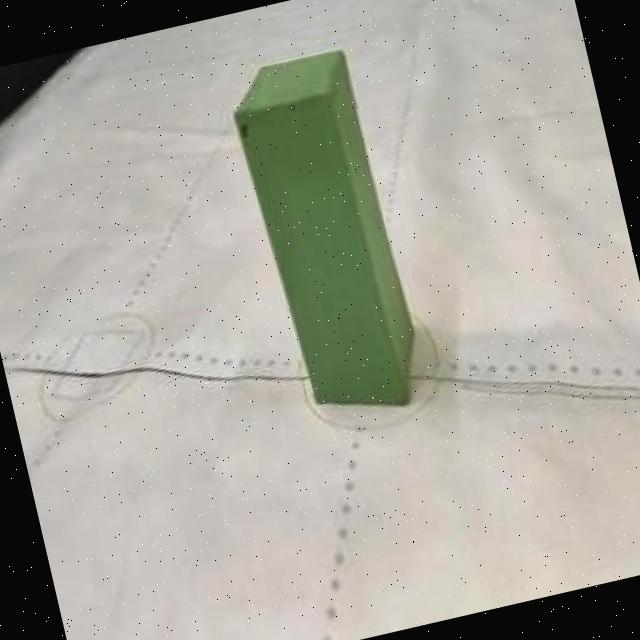greenbox: (219, 44, 430, 430)
